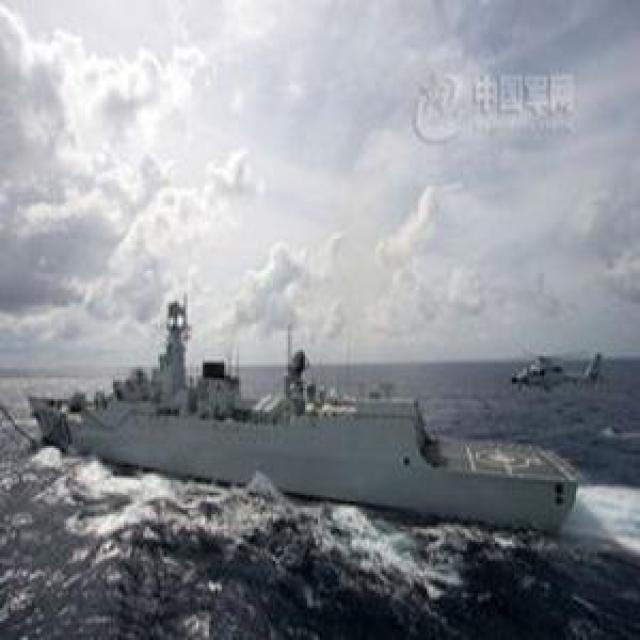navalvessels: (35, 309, 596, 555)
